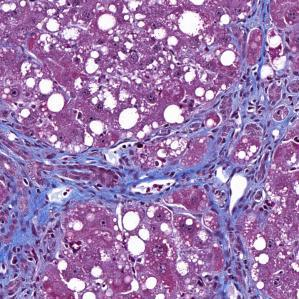fibrosis: (0, 132, 171, 208), (192, 78, 299, 186)
